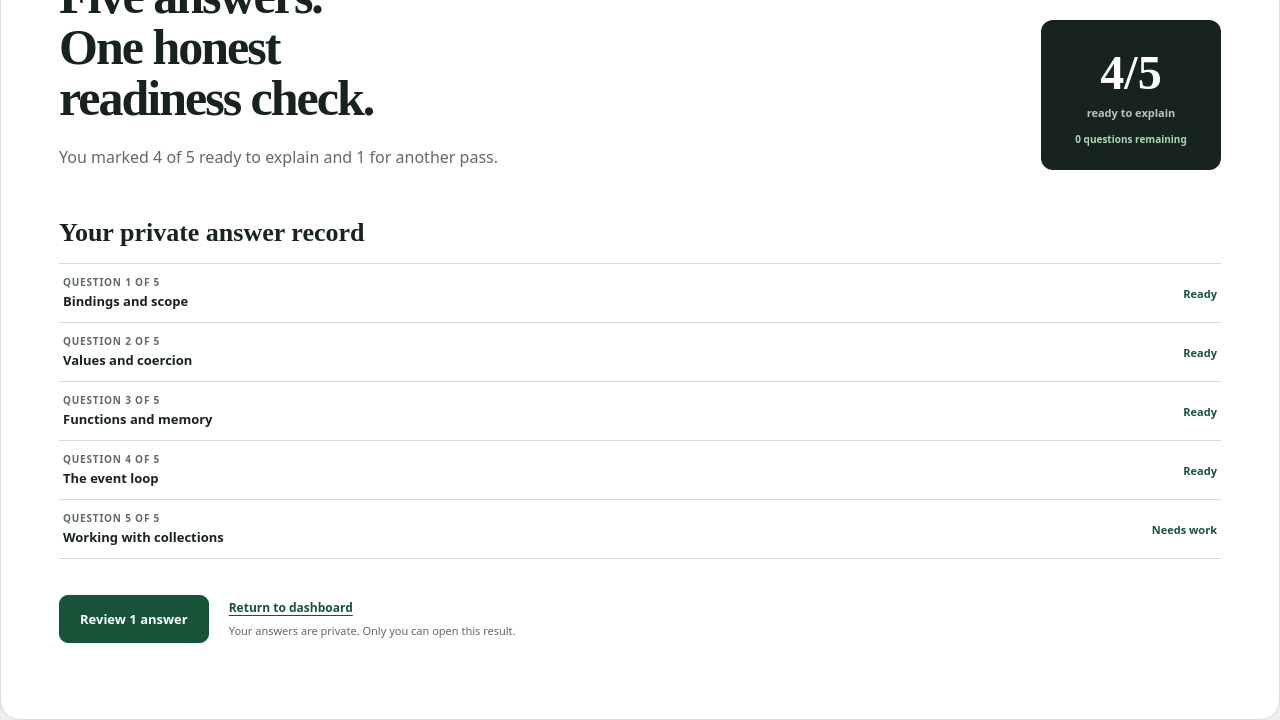
Test: InterviewDrill › clears the review action after the last answer becomes ready
(page scrolled)
Click the button "Review 1 answer": click(134, 619) [59, 595, 209, 643]
(page scrolled)
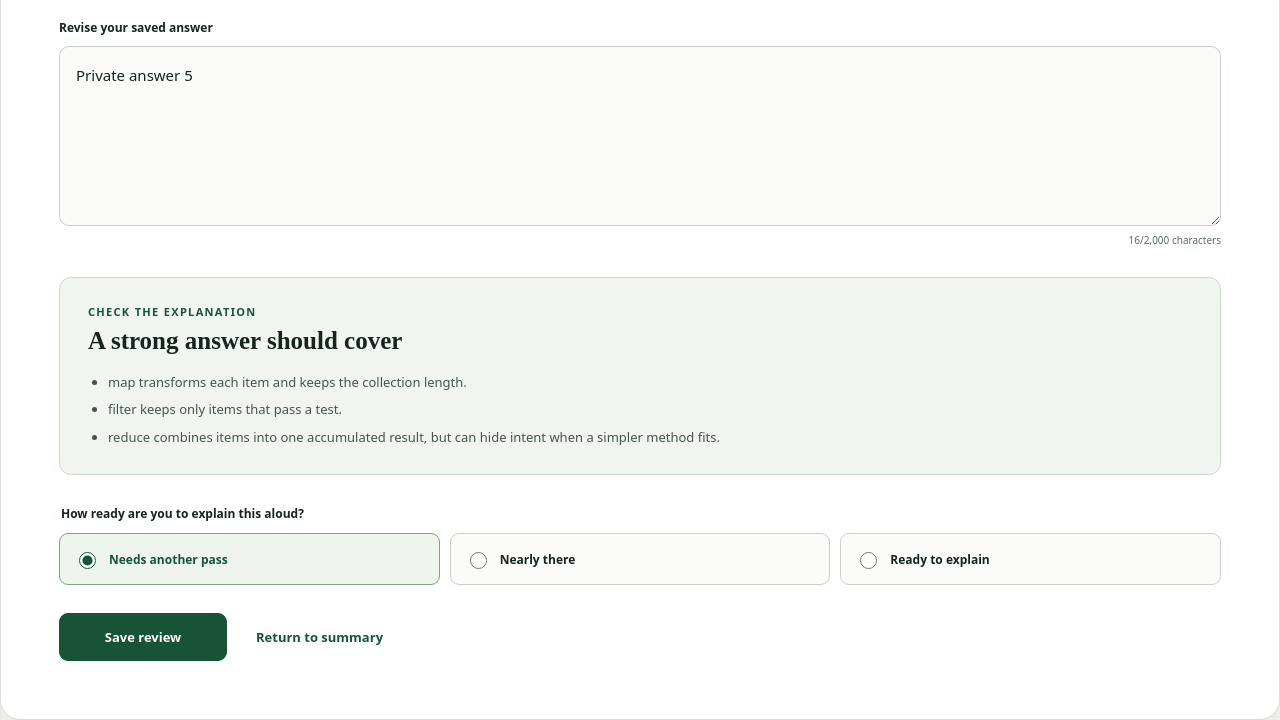
Click the radio button labelled "Ready to explain": click(869, 561) [860, 552, 877, 569]
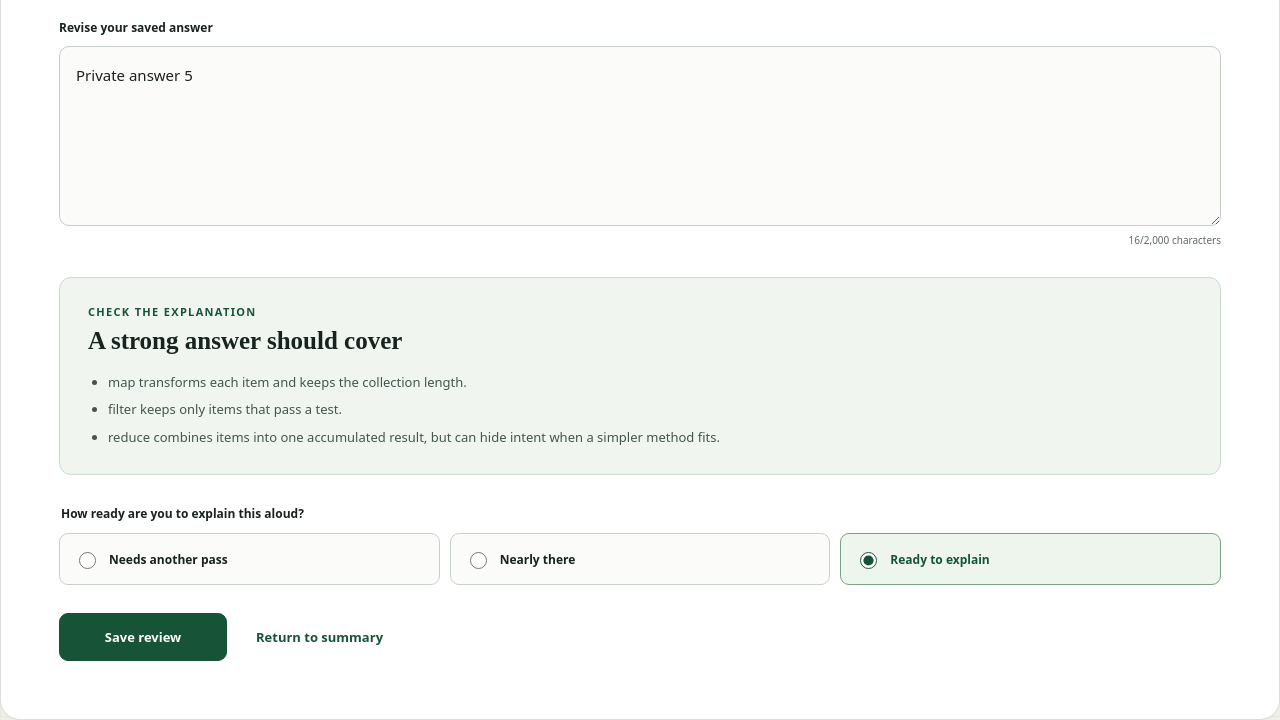
Click the button "Save review": click(143, 637) [59, 613, 227, 661]
(page scrolled)
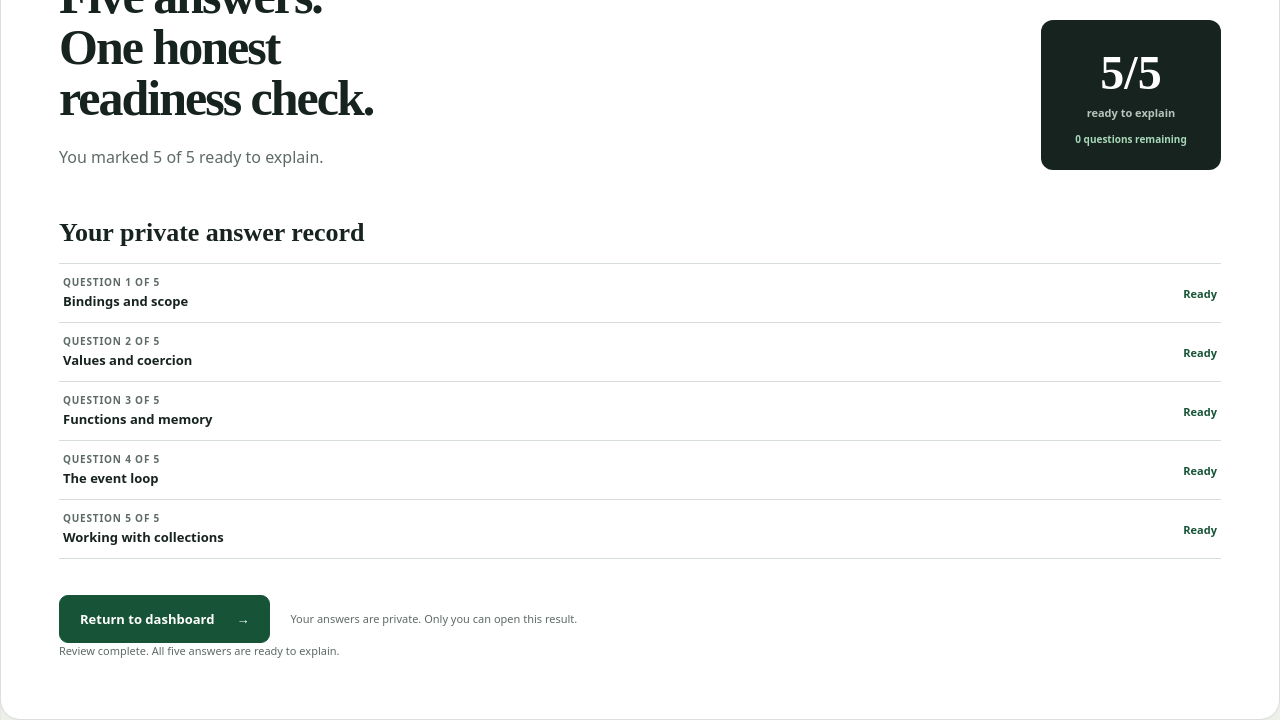
Expected: the button "Review 1 answer" is not shown
Now the text "5/5" is shown, box [1100, 46, 1162, 99]
Now the message reads "Review complete. All five answers are ready to explain.", box [59, 643, 340, 658]
